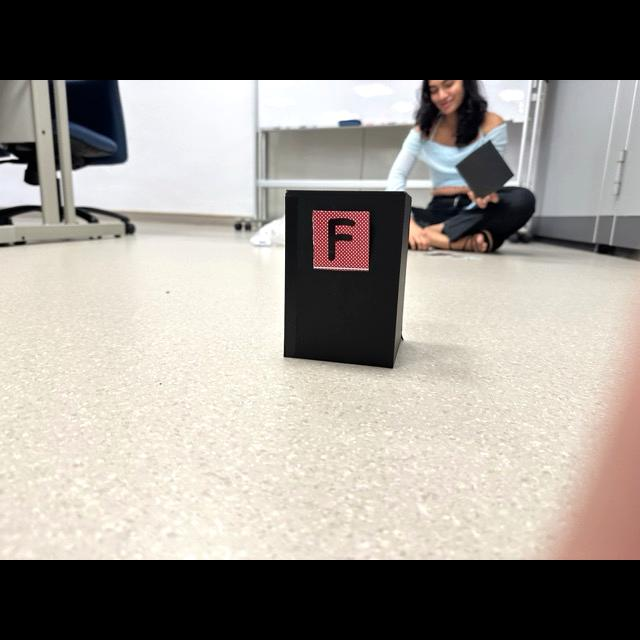F: (328, 218, 355, 261)
